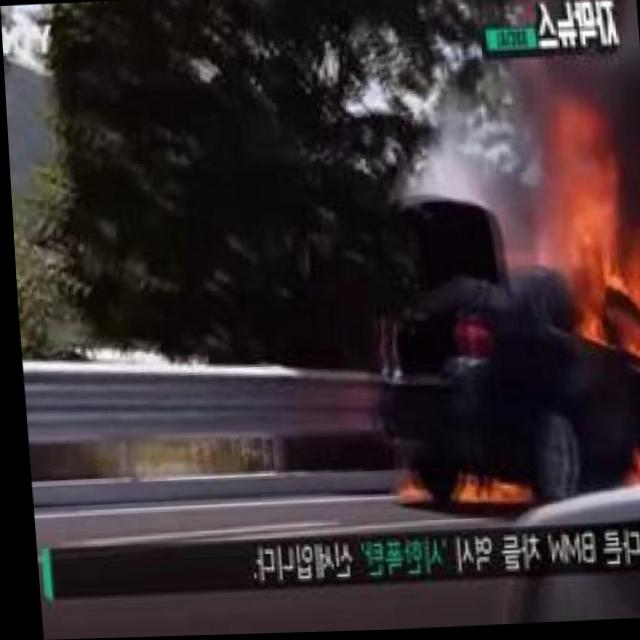Fire: (543, 152, 640, 351), (602, 435, 640, 489)
